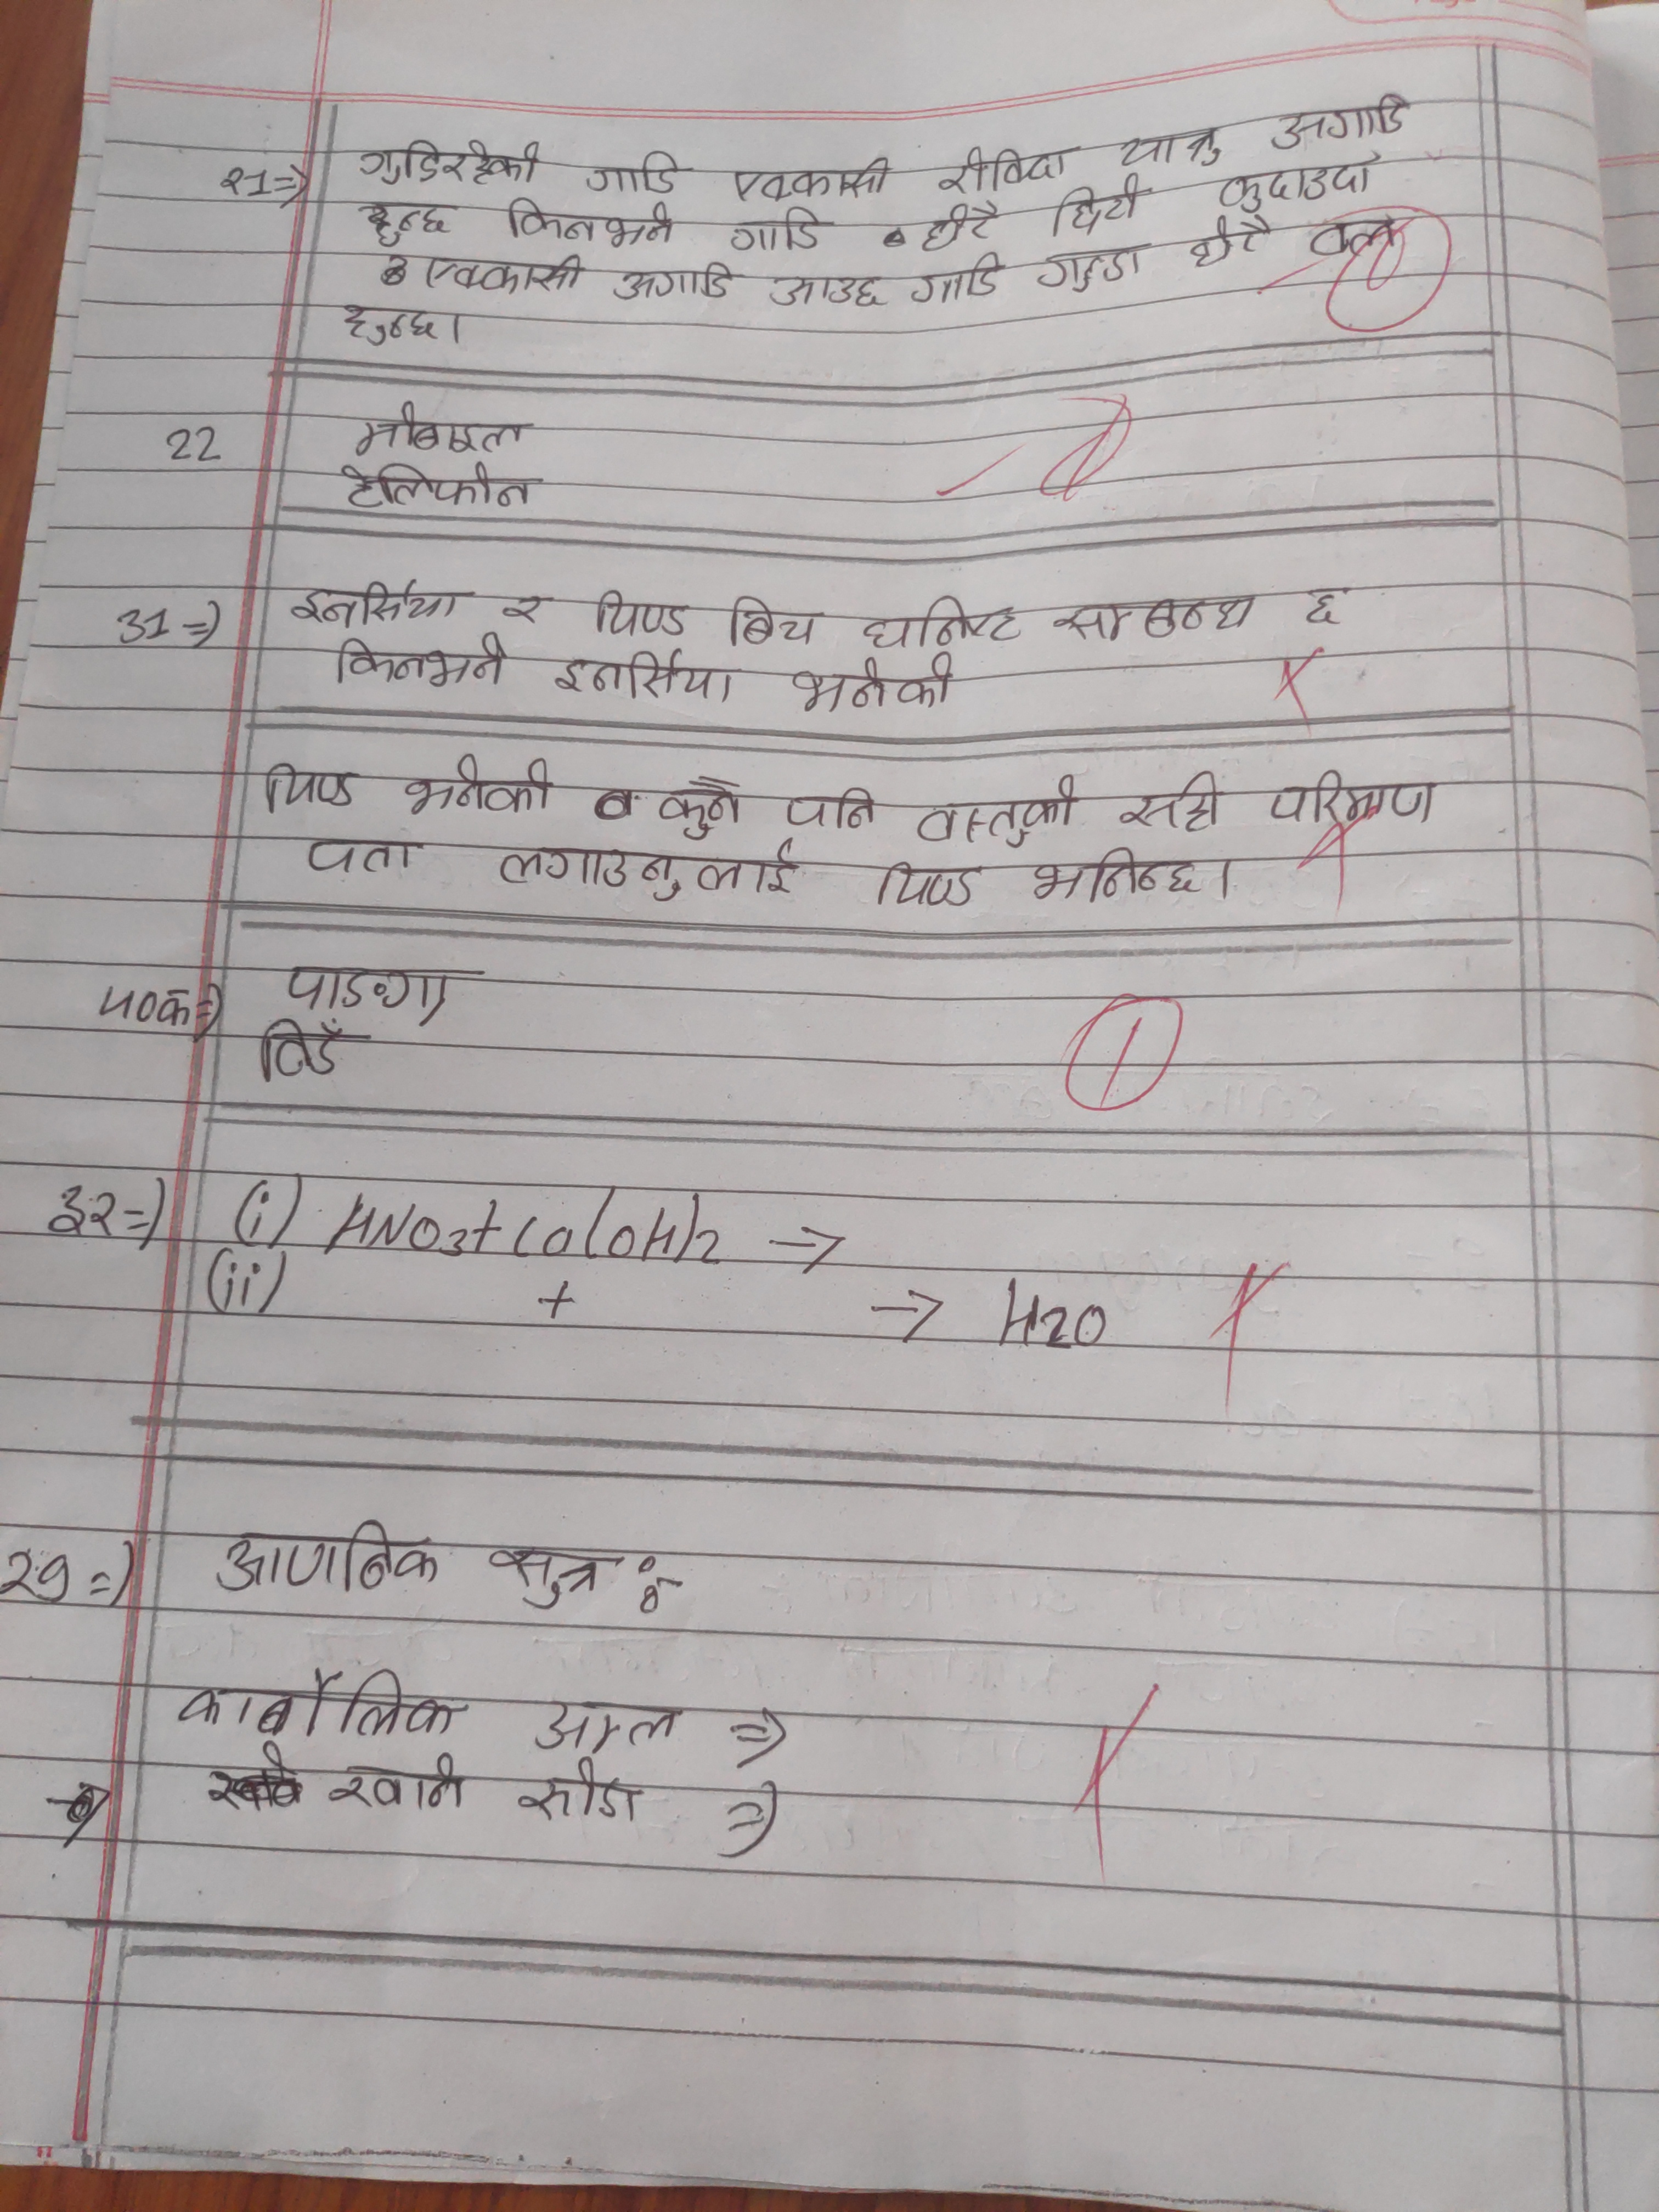text: (176, 1665, 462, 1745), (497, 829, 796, 902), (216, 1519, 443, 1601), (347, 399, 542, 460), (913, 773, 1077, 845), (335, 458, 544, 514), (789, 650, 958, 718), (554, 648, 735, 711), (281, 960, 462, 1021), (1032, 846, 1209, 907), (401, 751, 556, 820), (335, 634, 511, 693), (1270, 768, 1436, 831), (509, 1757, 647, 1832), (1044, 594, 1256, 641), (500, 199, 678, 254), (352, 134, 545, 185), (288, 571, 462, 627), (859, 590, 1023, 650), (537, 1688, 676, 1754), (486, 1540, 606, 1613), (420, 246, 584, 296), (331, 1757, 471, 1817), (1215, 162, 1377, 212), (1265, 92, 1412, 148), (1121, 768, 1234, 840), (721, 158, 892, 202), (260, 1015, 354, 1085), (936, 143, 1079, 188), (1033, 244, 1148, 300), (723, 590, 824, 653), (657, 775, 749, 843), (301, 831, 420, 880), (727, 204, 830, 260), (579, 148, 692, 199), (612, 260, 735, 305), (875, 857, 981, 909), (256, 759, 359, 813), (765, 270, 889, 314), (1046, 178, 1145, 232), (333, 300, 443, 348), (774, 784, 884, 833), (594, 585, 690, 641), (1295, 211, 1399, 261), (1183, 211, 1277, 266), (359, 195, 453, 247), (906, 254, 1006, 303), (1114, 127, 1223, 169), (920, 204, 1004, 254), (1304, 578, 1349, 636), (498, 590, 554, 632)
